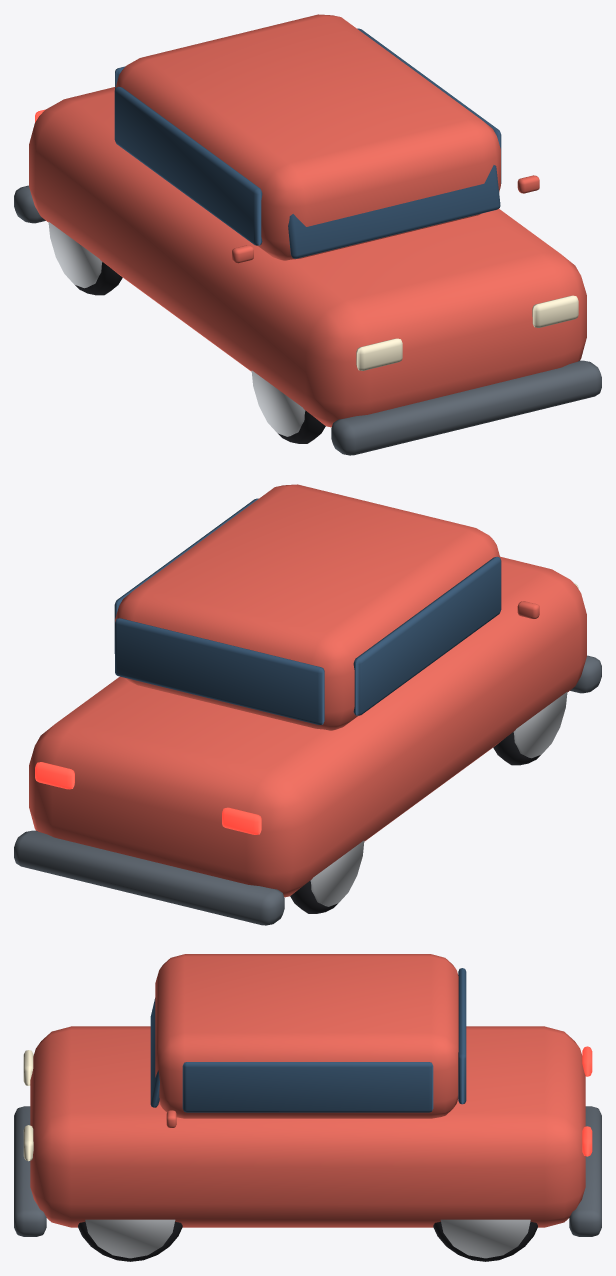
File: car_hatch.gltf
3 renders of one model, top to bottom at view 1: azimuth 30°, elevation 25°; view 2: azimuth 150°, elevation 25°; view 3: azimuth 270°, elevation 25°, orthographic. The views are drawn at different scales.
Parts seen in each view (by area): view 1: car_hatch_body, WHEEL_fr_mesh, WHEEL_rr_mesh; view 2: car_hatch_body, WHEEL_rr_mesh, WHEEL_fr_mesh; view 3: car_hatch_body, WHEEL_fl_mesh, WHEEL_rl_mesh.
Boxes of the visible parts, <box> form: car_hatch_body: <box>14,14,601,455</box>; WHEEL_fr_mesh: <box>251,370,325,443</box>; WHEEL_rr_mesh: <box>48,221,122,295</box>; car_hatch_body: <box>14,484,601,925</box>; WHEEL_rr_mesh: <box>290,840,364,913</box>; WHEEL_fr_mesh: <box>493,691,567,765</box>; car_hatch_body: <box>14,954,601,1236</box>; WHEEL_fl_mesh: <box>78,1219,182,1261</box>; WHEEL_rl_mesh: <box>433,1219,537,1261</box>.
Size of what is drawn, in the model's own units: 1.89 by 1.46 by 3.6.
